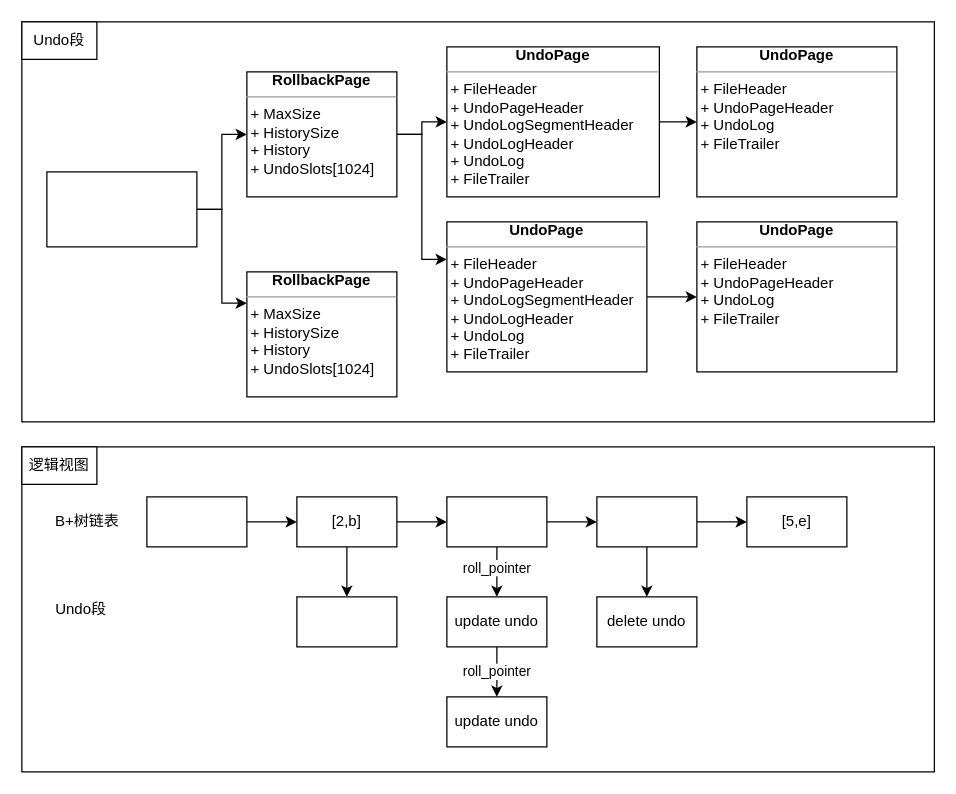
Image size: 956x794. Some labels were removed from this diagram. Here are the shapes that lost their labels. From the top down, the box of each, then its label:
(46, 171, 197, 247): Page5 + RollbackPage[128]
(146, 496, 247, 547): [1,a]
(446, 496, 547, 547): [3,c]
(596, 496, 697, 547): [4,d]
(296, 596, 397, 647): insert undo
